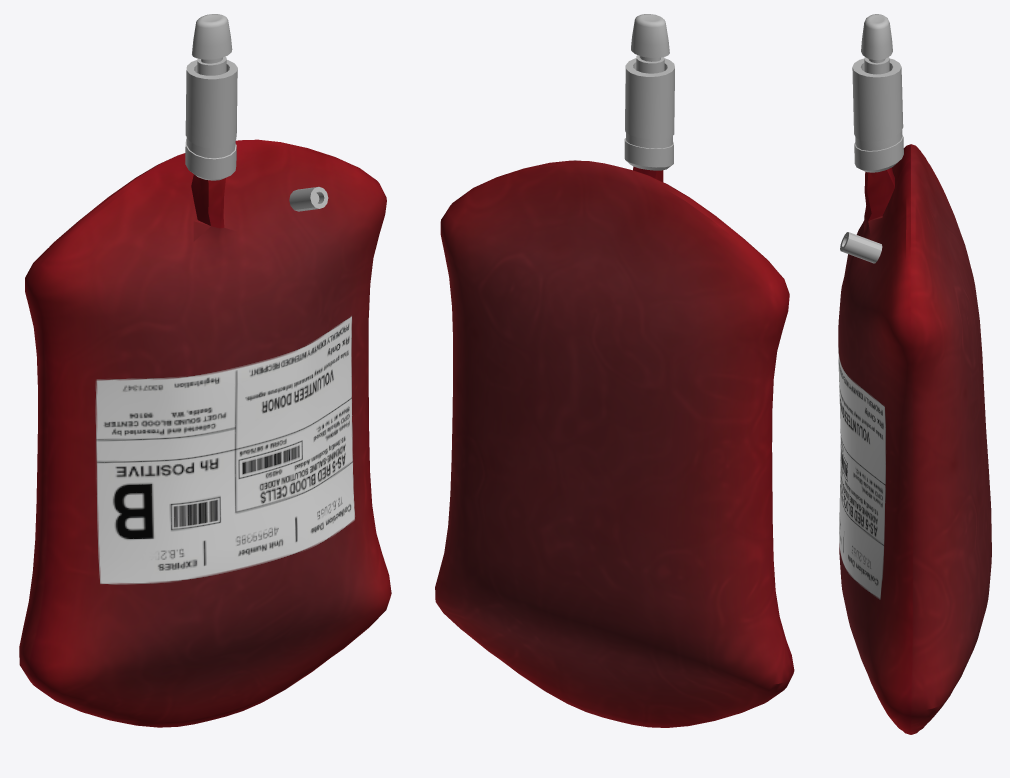
File: Bloodbag_ingame.fbx
The picture shows the model from 3 angles, left to right: view 1: azimuth 30°, elevation 25°; view 2: azimuth 150°, elevation 25°; view 3: azimuth 270°, elevation 25°; orthographic projection. The views are drawn at different scales.
Parts seen in each view (by area): view 1: blood_ingame, bloodbag_ingame; view 2: blood_ingame, bloodbag_ingame; view 3: blood_ingame, bloodbag_ingame.
Part boxes in pixels (box(x1,y1,x2,y2)): blood_ingame: box(19, 139, 391, 727); bloodbag_ingame: box(185, 14, 328, 211); blood_ingame: box(435, 160, 794, 727); bloodbag_ingame: box(574, 14, 674, 170); blood_ingame: box(838, 144, 991, 734); bloodbag_ingame: box(840, 14, 903, 263).
Bounding box in the file's own units: 156 × 290 × 58.5.
